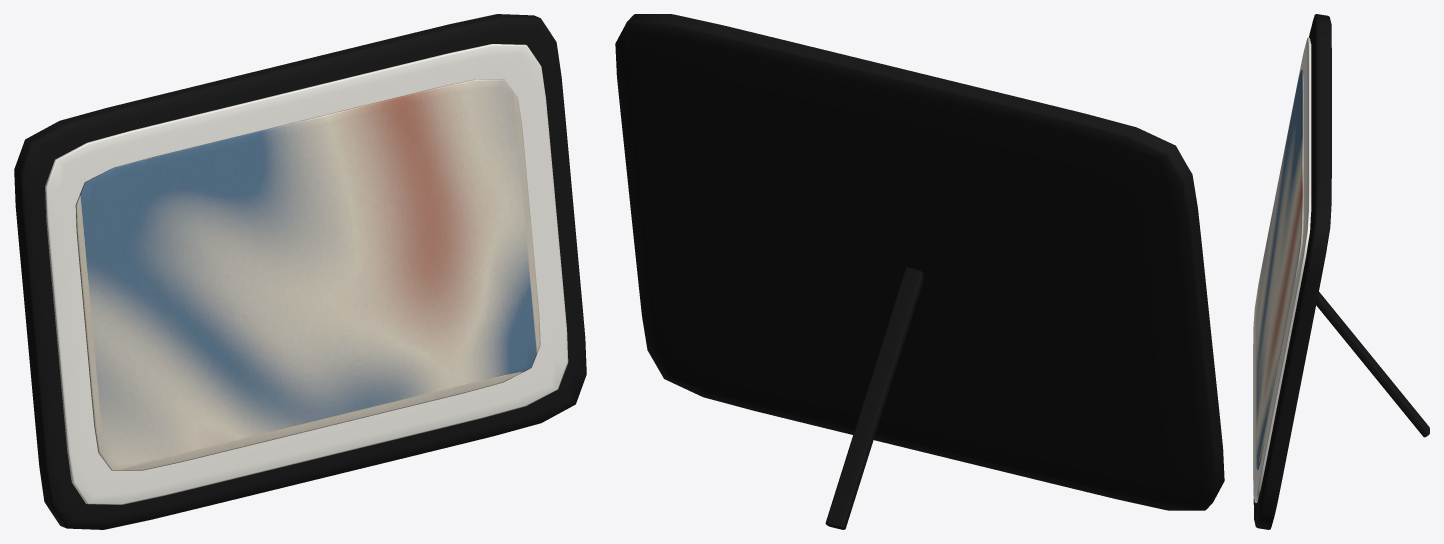
Rendered from black-landscape.glb.
The picture shows the model from 3 angles, left to right: view 1: azimuth 30°, elevation 25°; view 2: azimuth 150°, elevation 25°; view 3: azimuth 270°, elevation 25°; orthographic projection. The views are drawn at different scales.
Parts seen in each view (by area): view 1: artwork_3, mat_board, frame_black; view 2: frame_black; view 3: frame_black, artwork_3, mat_board.
Part boxes in pixels (box(x1,y1,x2,y2)): artwork_3: box(75, 79, 540, 470); mat_board: box(45, 44, 568, 504); frame_black: box(14, 14, 586, 529); frame_black: box(615, 14, 1224, 529); frame_black: box(1253, 14, 1429, 529); artwork_3: box(1255, 70, 1303, 469); mat_board: box(1253, 37, 1311, 502).
Bounding box in the file's own units: 0.8 × 0.5455 × 0.269.
Materials: 3 (1 with a texture image).
